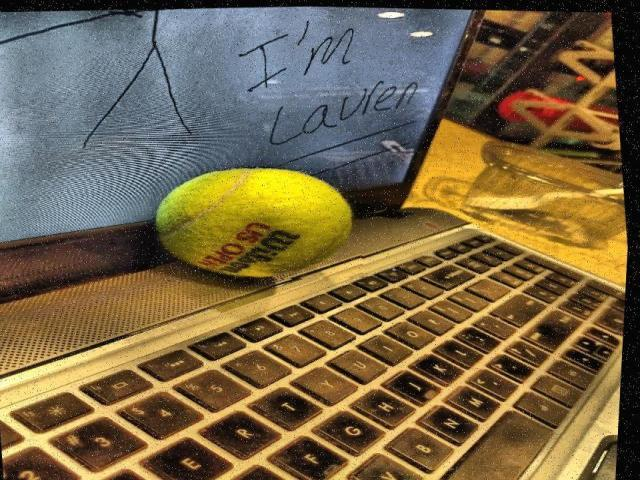tennis-ball: (154, 167, 356, 282)
